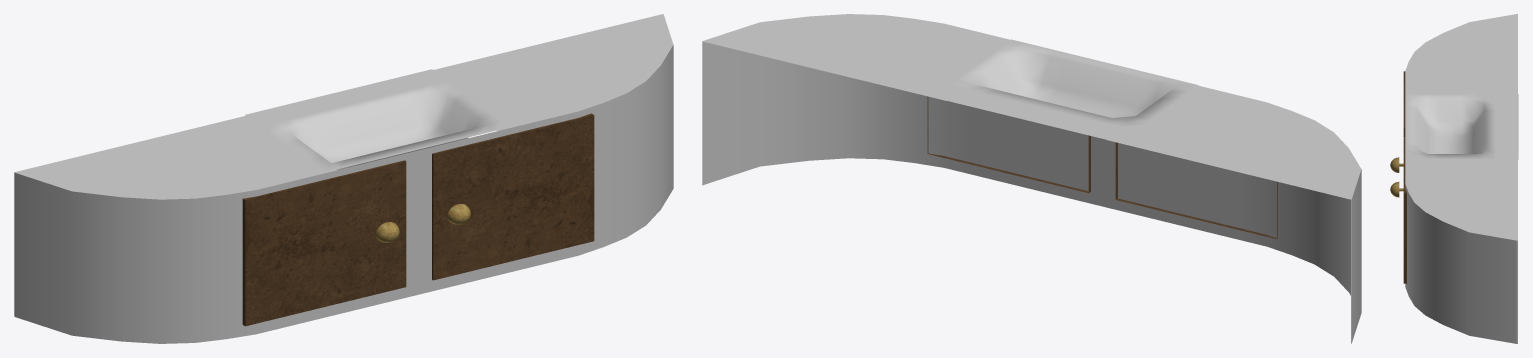
Rendered from Sink&Cabinet.fbx.
3 views of the same model, side by side, from view 1: azimuth 30°, elevation 25°; view 2: azimuth 150°, elevation 25°; view 3: azimuth 270°, elevation 25° (orthographic). The views are drawn at different scales.
Parts seen in each view (by area): view 1: polySurface1, New_cabinet_Door:pCube1, pCube1, Sink1:pPlane1; view 2: polySurface1, Sink1:pPlane1, pCube1, New_cabinet_Door:pCube1; view 3: polySurface1, Sink1:pPlane1, pCube1, New_cabinet_Door:pCube1, pSphere1, New_cabinet_Door:pSphere1.
Boxes of the visible parts, <box> form: polySurface1: <box>14,14,673,343</box>; New_cabinet_Door:pCube1: <box>242,160,406,326</box>; pCube1: <box>432,113,594,280</box>; Sink1:pPlane1: <box>245,69,510,172</box>; polySurface1: <box>702,14,1361,343</box>; Sink1:pPlane1: <box>933,39,1198,142</box>; pCube1: <box>927,96,1090,193</box>; New_cabinet_Door:pCube1: <box>1115,142,1277,239</box>; polySurface1: <box>1405,14,1517,343</box>; Sink1:pPlane1: <box>1405,94,1518,159</box>; pCube1: <box>1403,137,1406,283</box>; New_cabinet_Door:pCube1: <box>1403,71,1405,136</box>; pSphere1: <box>1390,181,1399,197</box>; New_cabinet_Door:pSphere1: <box>1390,157,1399,172</box>.
Size of the model in its own units: 22 by 4.7 by 5.27.
